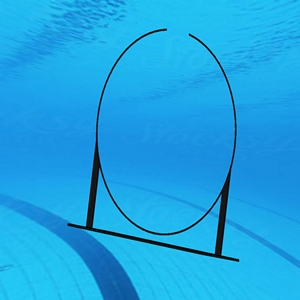circle: (64, 24, 248, 268)
